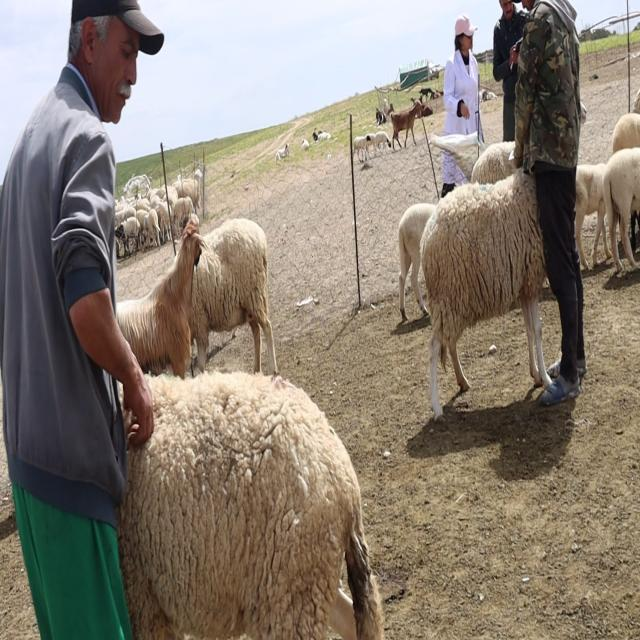Score_1: (117, 372, 384, 639)
